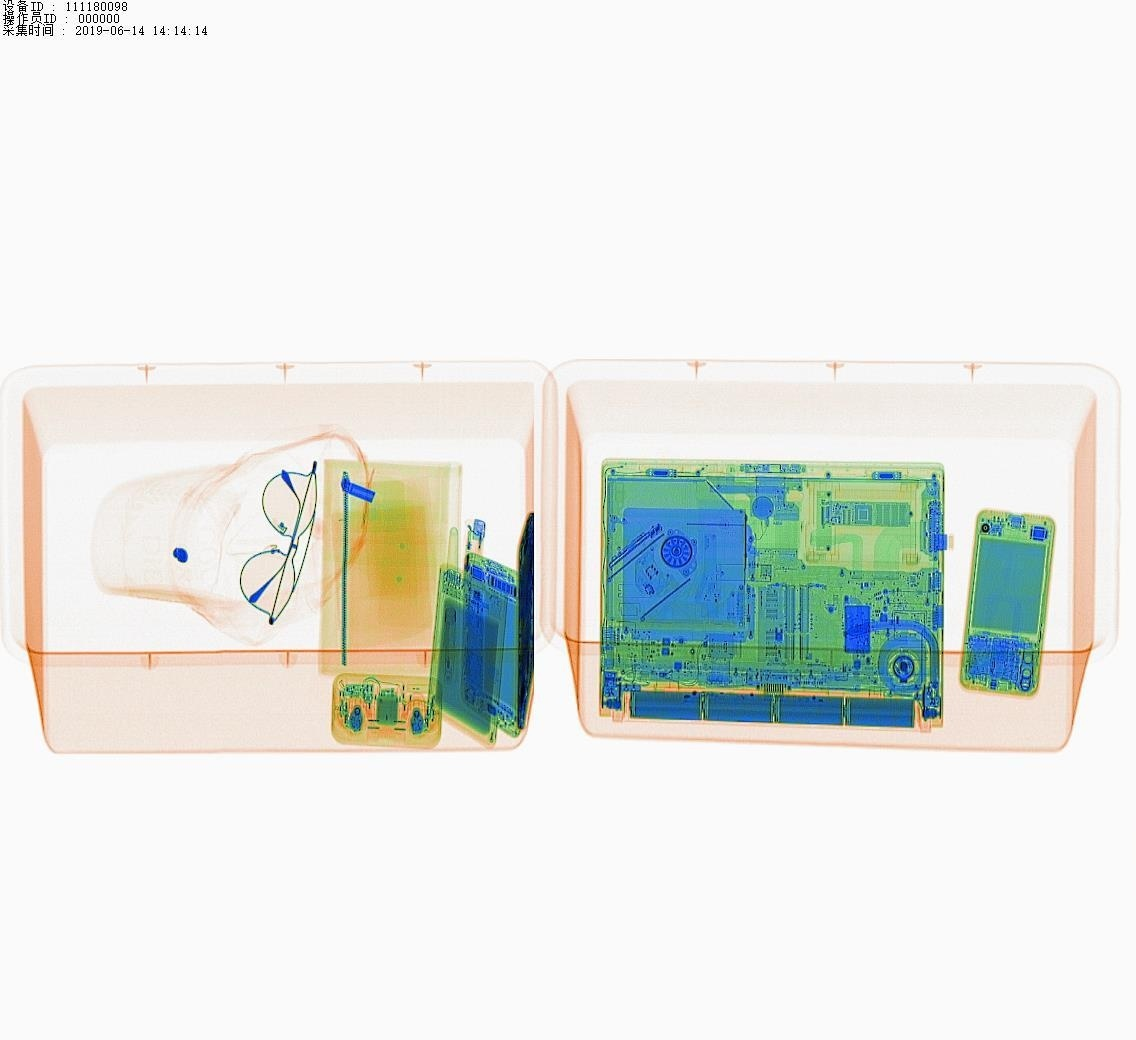NonmetallicFire: (453, 513, 497, 601)
